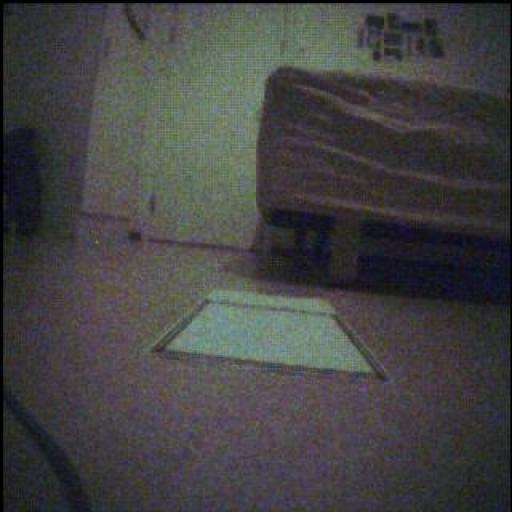pad: (153, 291, 387, 380)
